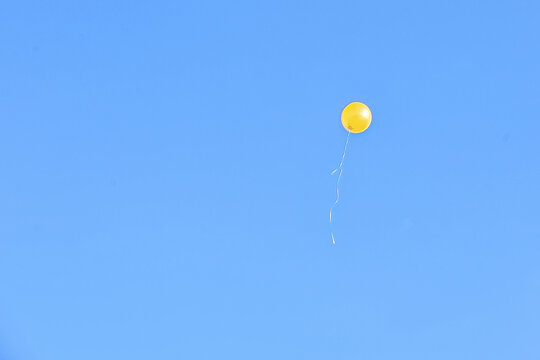Balloon: (341, 101, 372, 134)
